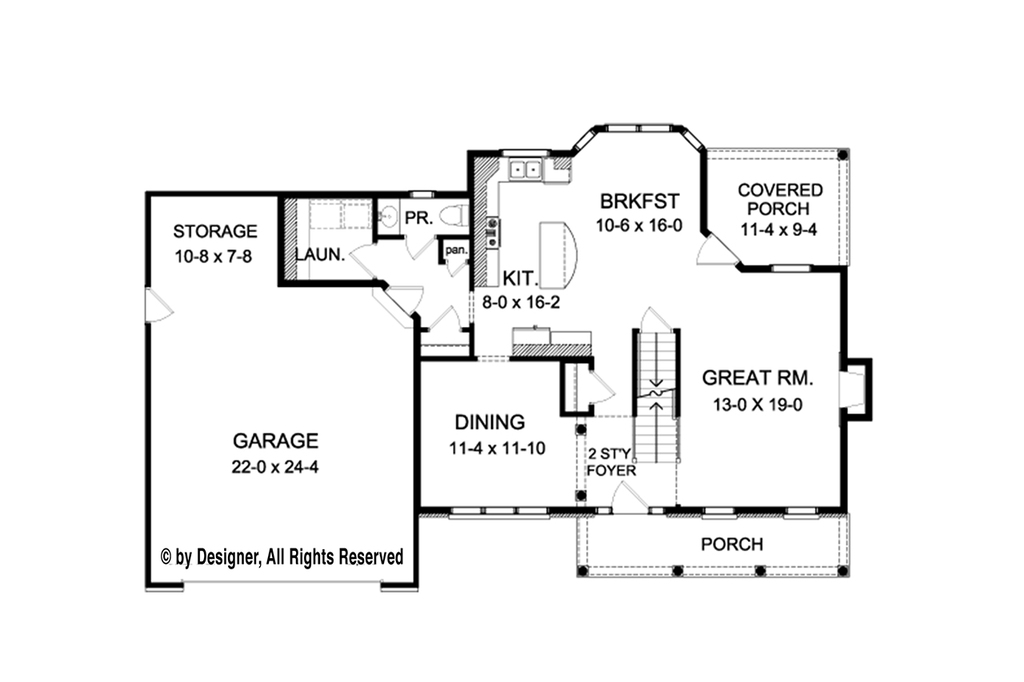door: (693, 230, 741, 273), (605, 480, 649, 517), (345, 240, 379, 282), (384, 280, 424, 315), (141, 286, 176, 325), (589, 366, 616, 407), (423, 307, 466, 331), (404, 235, 439, 262)
kitchen_bar: (535, 218, 580, 295)
large_sink: (435, 205, 472, 230)
small_sink: (376, 199, 400, 237)
stairs: (630, 327, 684, 462)
twin_sink: (504, 158, 547, 186)
window: (575, 119, 706, 159), (444, 502, 550, 519), (780, 500, 820, 521), (700, 505, 737, 521), (767, 263, 818, 274)
